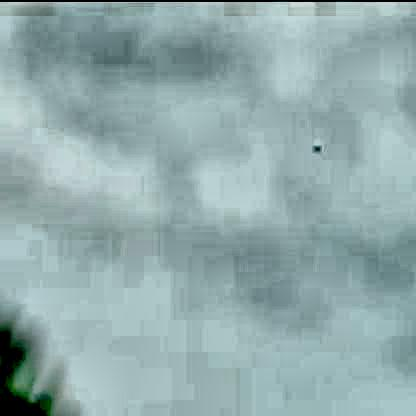golfball: (310, 138, 317, 149)
